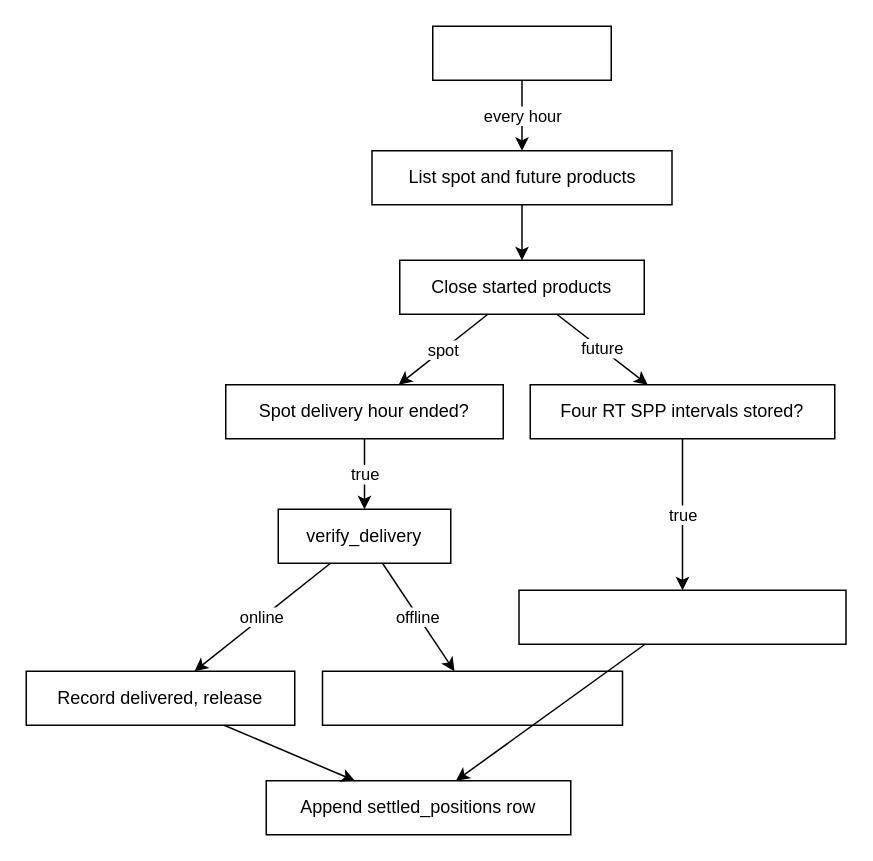
The diagram is 873 pixels wide and 861 high, and some of its shapes have lost their labels. The box of each missing label's shape, as (x1, y1, x2, y2) in pixels:
Cash += (reference - avg) x qty: (518, 589, 846, 644)
Record default, refund buyer: (321, 670, 622, 725)
Settlement tick: (431, 25, 611, 80)
